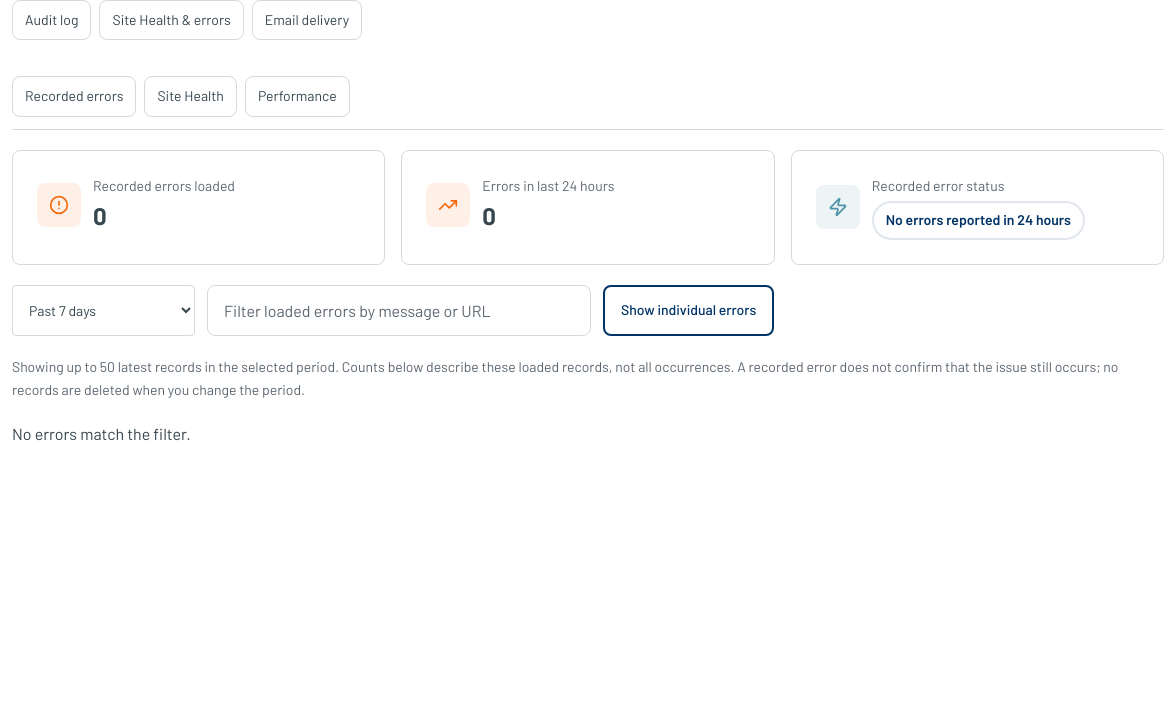
truthful monitoring › keeps older records accessible without presenting them as current failures
Check: the text "No errors match the filter." is shown, box [12,424,191,443]
Check: the text "Old browser error" is not shown
Select "Older records included" in the dropdown named "Recorded error period". click: [104, 310]
box: [12,285,195,336]
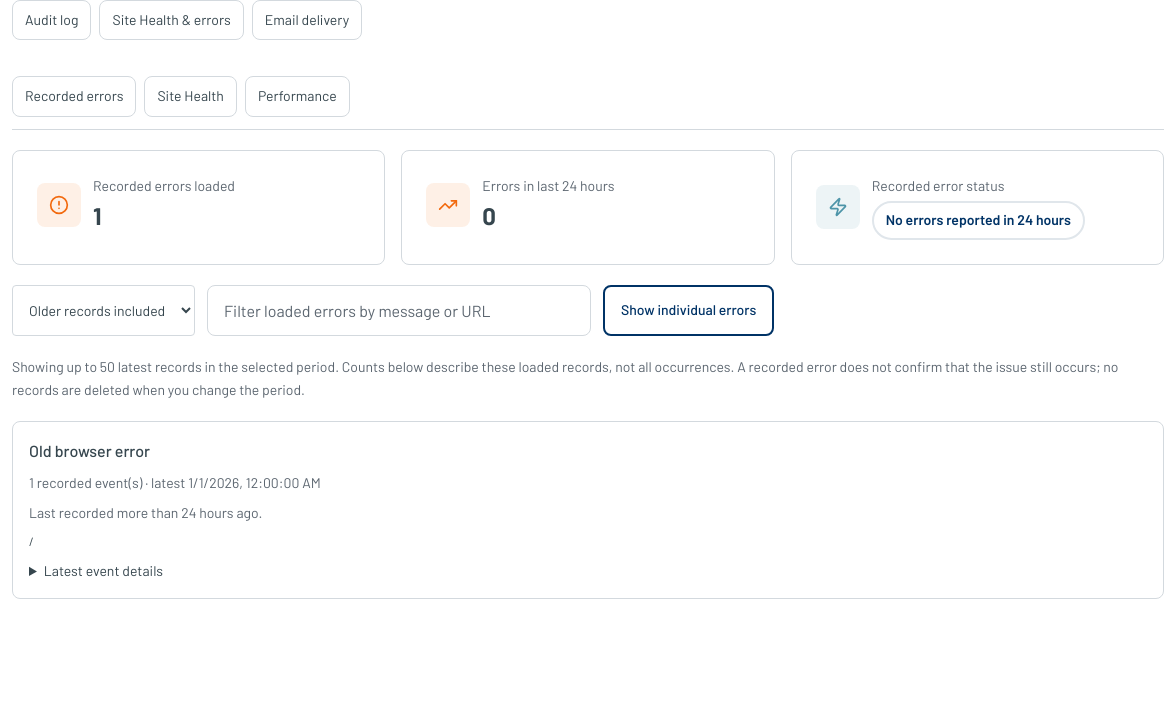
Check: the text "No errors reported in 24 hours" is shown, box [872,201,1085,240]
Check: the text "Old browser error" is shown, box [29,441,150,460]
Check: the text "Last recorded more than 24 hours ago." is shown, box [29,504,262,521]
